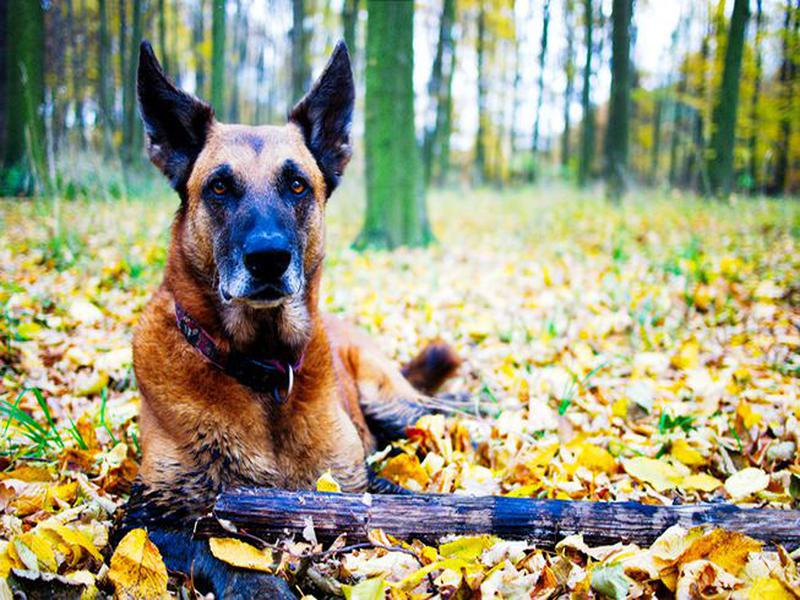dog_down: (130, 39, 461, 502)
